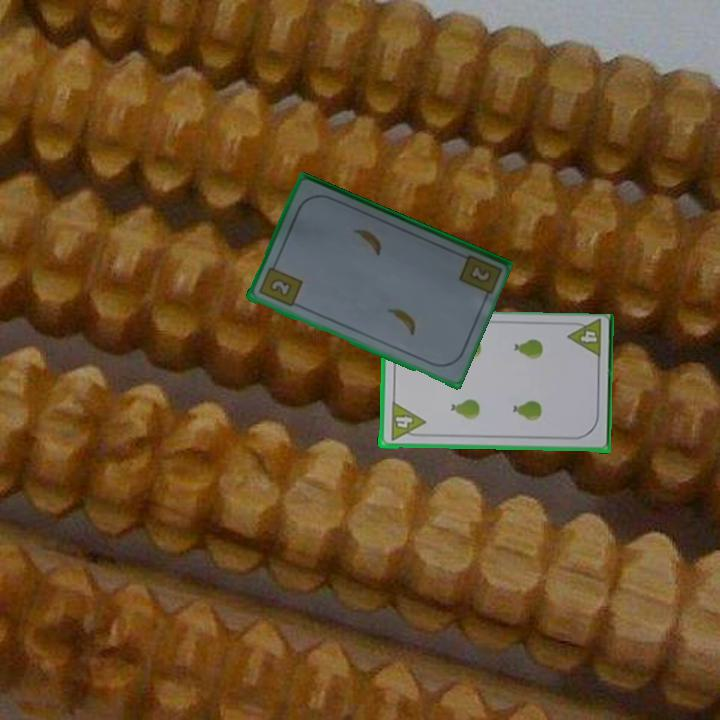2b: (255, 259, 305, 310), (465, 261, 492, 284)
4p: (387, 399, 427, 444), (564, 318, 604, 362)
